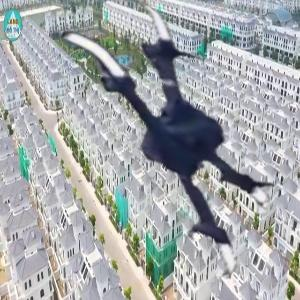drone: (9, 2, 297, 290)
